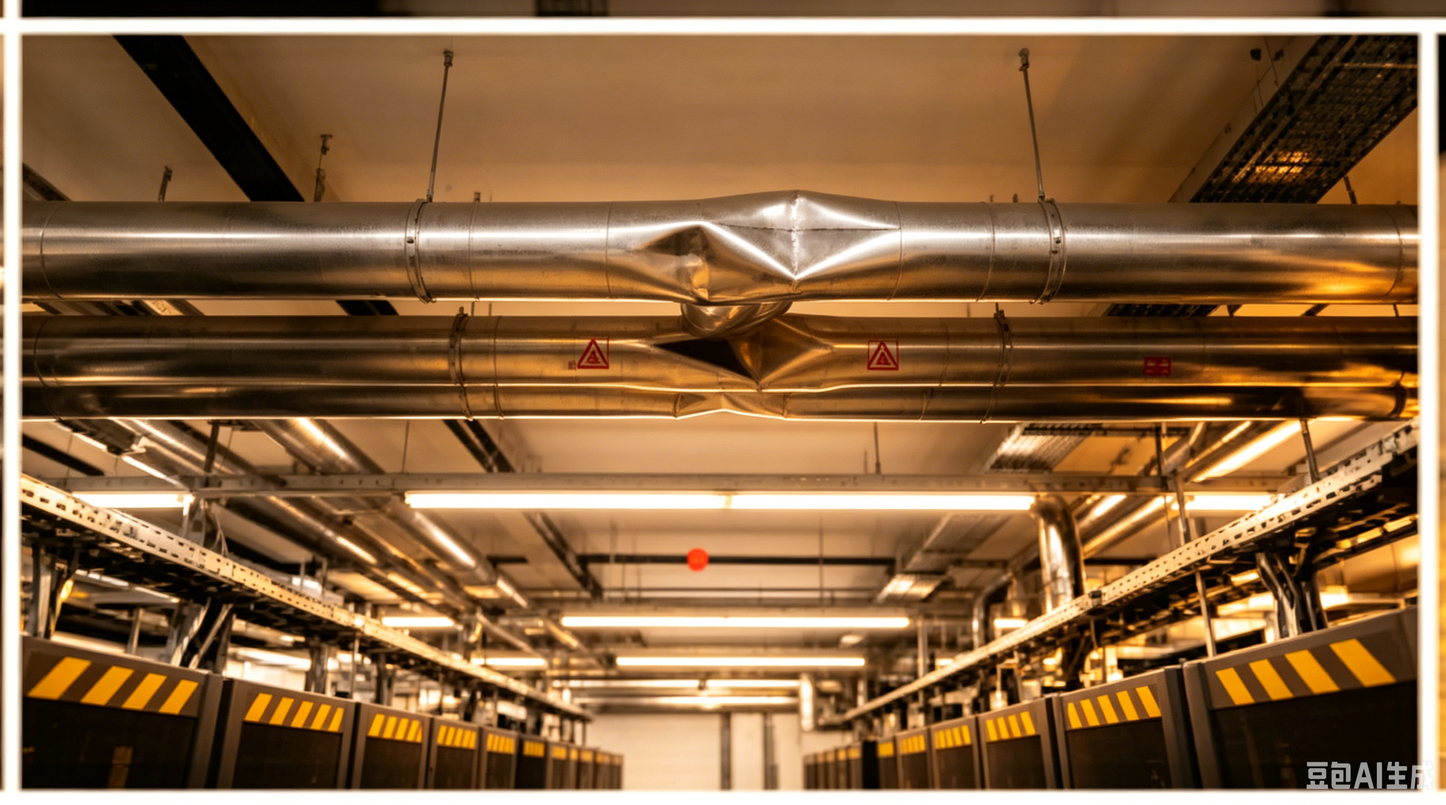Leakage: (647, 319, 858, 430), (691, 193, 924, 291), (627, 218, 774, 303)
